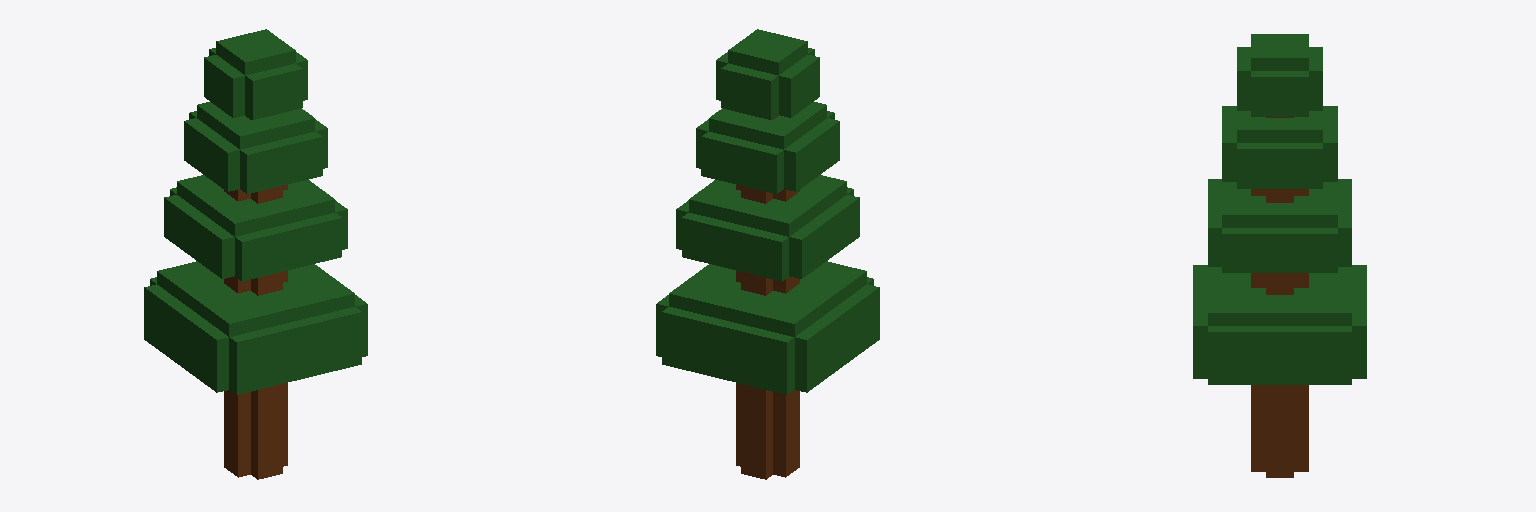
The picture shows the model from 3 angles: view 1: azimuth 30°, elevation 25°; view 2: azimuth 150°, elevation 25°; view 3: azimuth 270°, elevation 25°; orthographic projection.
Visible parts, largest first — view 1: object 1; view 2: object 1; view 3: object 1.
Part boxes in pixels (x1,y1,x2,y2): object 1: (144, 29, 367, 479); object 1: (656, 29, 879, 479); object 1: (1193, 34, 1366, 477).
Size of the model in its own units: 1.2 by 3.2 by 1.2.
Materials: 1 (1 with a texture image).